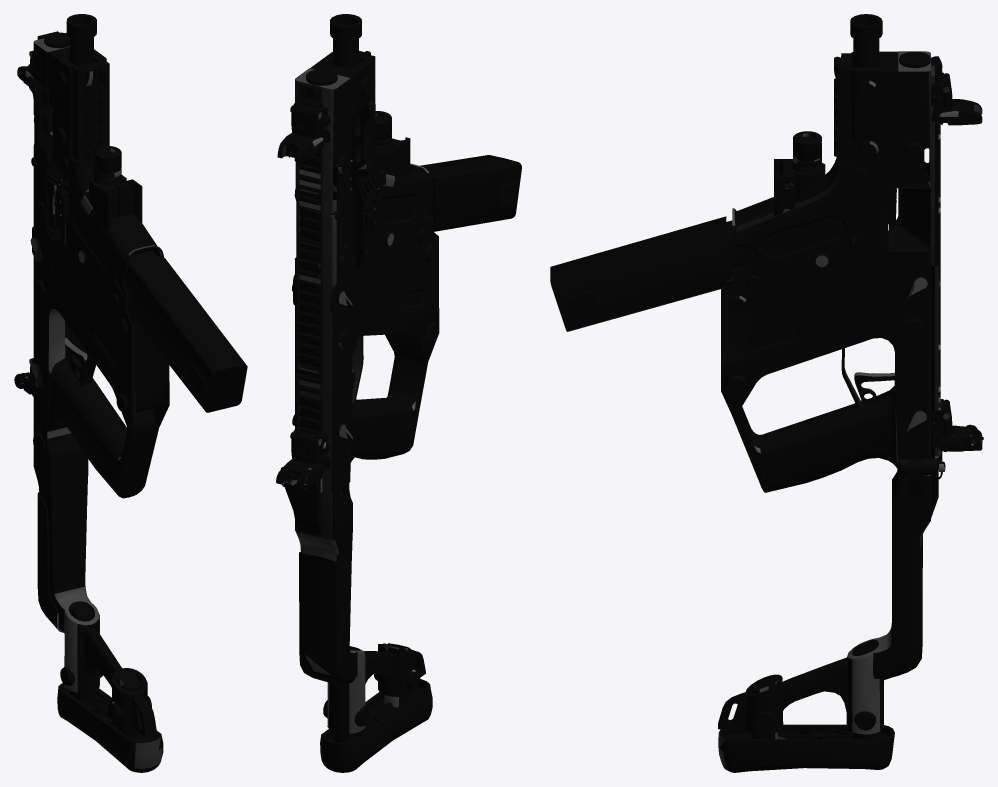
Rendered from KrissVector__Light_Pistol.fbx.
3 renders of one model, left to right at view 1: azimuth 30°, elevation 25°; view 2: azimuth 150°, elevation 25°; view 3: azimuth 270°, elevation 25°, orthographic. The views are drawn at different scales.
Visible parts, largest first — view 1: asset_KrissVector.001; view 2: asset_KrissVector.001; view 3: asset_KrissVector.001.
Boxes of the visible parts, <box> form: asset_KrissVector.001: <box>14,14,247,772</box>; asset_KrissVector.001: <box>276,14,521,772</box>; asset_KrissVector.001: <box>550,14,983,772</box>.
Size of the model in its own units: 0.0304 by 0.312 by 0.1639.
